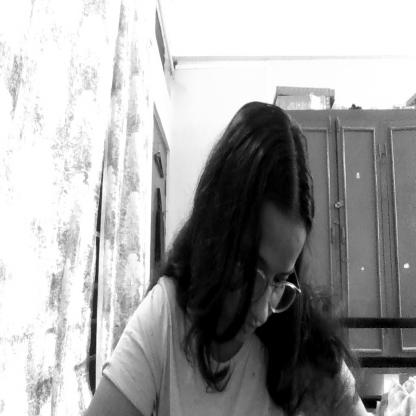Distracted: (235, 214, 310, 352)
